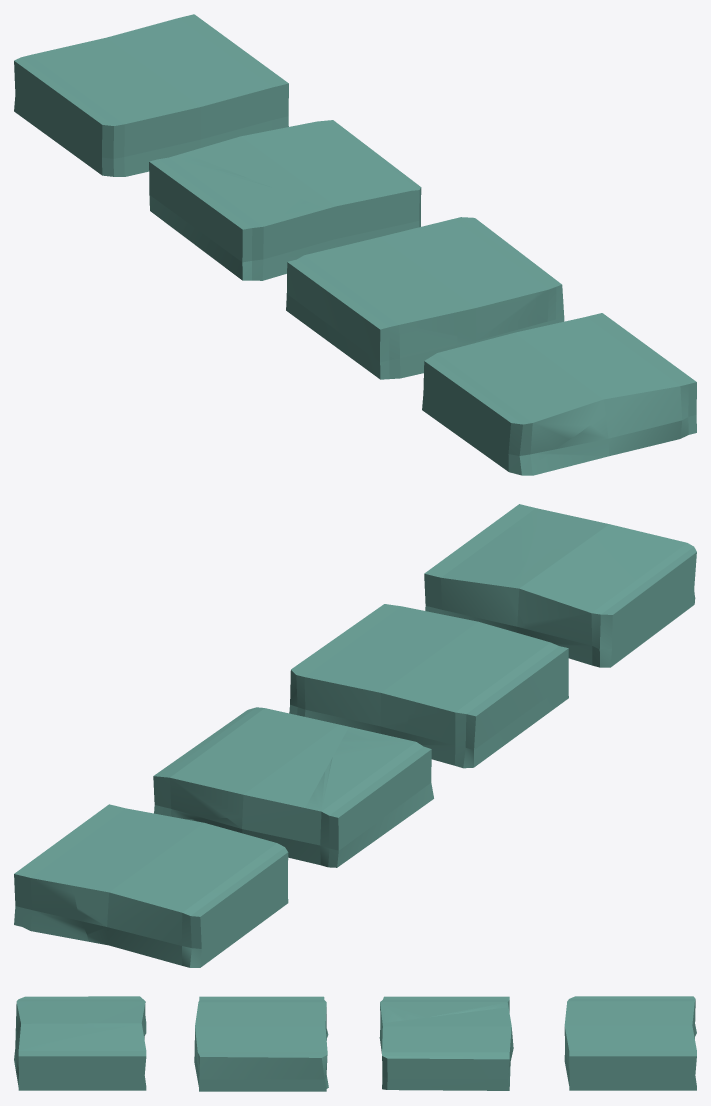
Rendered from ConcreteBricks_V2_Shattered.fbx.
The picture shows the model from 3 angles, top to bottom: view 1: azimuth 30°, elevation 25°; view 2: azimuth 150°, elevation 25°; view 3: azimuth 270°, elevation 25°; orthographic projection. The views are drawn at different scales.
Visible parts, largest first — view 1: shard12, shard9, shard5, shard4, shard3, shard2, shard10, shard7, shard1, shard8, shard11, shard6; view 2: shard12, shard9, shard3, shard4, shard5, shard7, shard2, shard11, shard1, shard8, shard10; view 3: shard4, shard7, shard2, shard12, shard10, shard11, shard9, shard5, shard1, shard3, shard8, shard6.
Part boxes in pixels (left/top/right/bottom): shard12: left=422, top=330, right=632, bottom=474; shard9: left=286, top=244, right=457, bottom=379; shard5: left=149, top=153, right=339, bottom=280; shard4: left=184, top=120, right=421, bottom=217; shard3: left=14, top=41, right=184, bottom=176; shard2: left=140, top=14, right=288, bottom=149; shard10: left=518, top=353, right=696, bottom=475; shard7: left=349, top=217, right=564, bottom=327; shard1: left=92, top=28, right=205, bottom=152; shard8: left=405, top=259, right=538, bottom=347; shard11: left=528, top=313, right=656, bottom=389; shard6: left=307, top=210, right=420, bottom=254; shard12: left=505, top=518, right=696, bottom=667; shard9: left=405, top=627, right=568, bottom=768; shard3: left=81, top=840, right=288, bottom=967; shard4: left=153, top=707, right=348, bottom=819; shard5: left=203, top=727, right=433, bottom=867; shard7: left=289, top=604, right=416, bottom=738; shard2: left=14, top=804, right=198, bottom=941; shard11: left=424, top=520, right=570, bottom=636; shard1: left=73, top=822, right=266, bottom=920; shard8: left=413, top=609, right=495, bottom=672; shard10: left=480, top=504, right=695, bottom=598; shard4: left=382, top=1007, right=512, bottom=1090; shard7: left=197, top=1016, right=328, bottom=1091; shard2: left=564, top=1027, right=696, bottom=1090; shard12: left=15, top=996, right=146, bottom=1039; shard10: left=14, top=1031, right=146, bottom=1090; shard11: left=27, top=1028, right=146, bottom=1087; shard9: left=196, top=996, right=328, bottom=1040; shard5: left=379, top=996, right=513, bottom=1068; shard1: left=564, top=1004, right=694, bottom=1037; shard3: left=567, top=996, right=696, bottom=1038; shard8: left=194, top=1020, right=286, bottom=1084; shard6: left=381, top=1043, right=510, bottom=1090.
Size of the model in its own units: 159 by 48.1 by 744.
